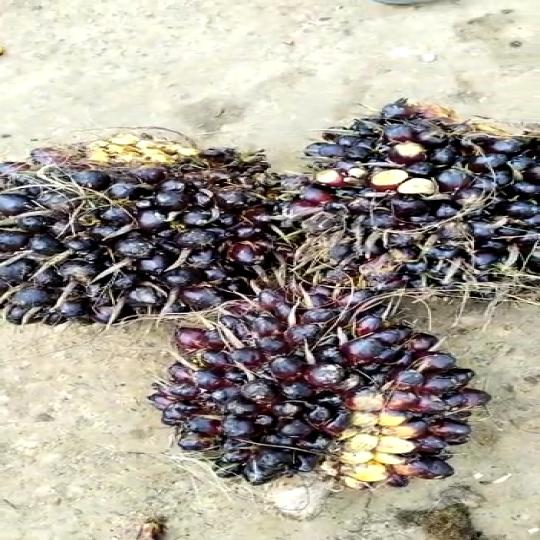mentah: (162, 285, 474, 519), (4, 117, 283, 334), (280, 85, 540, 313)
